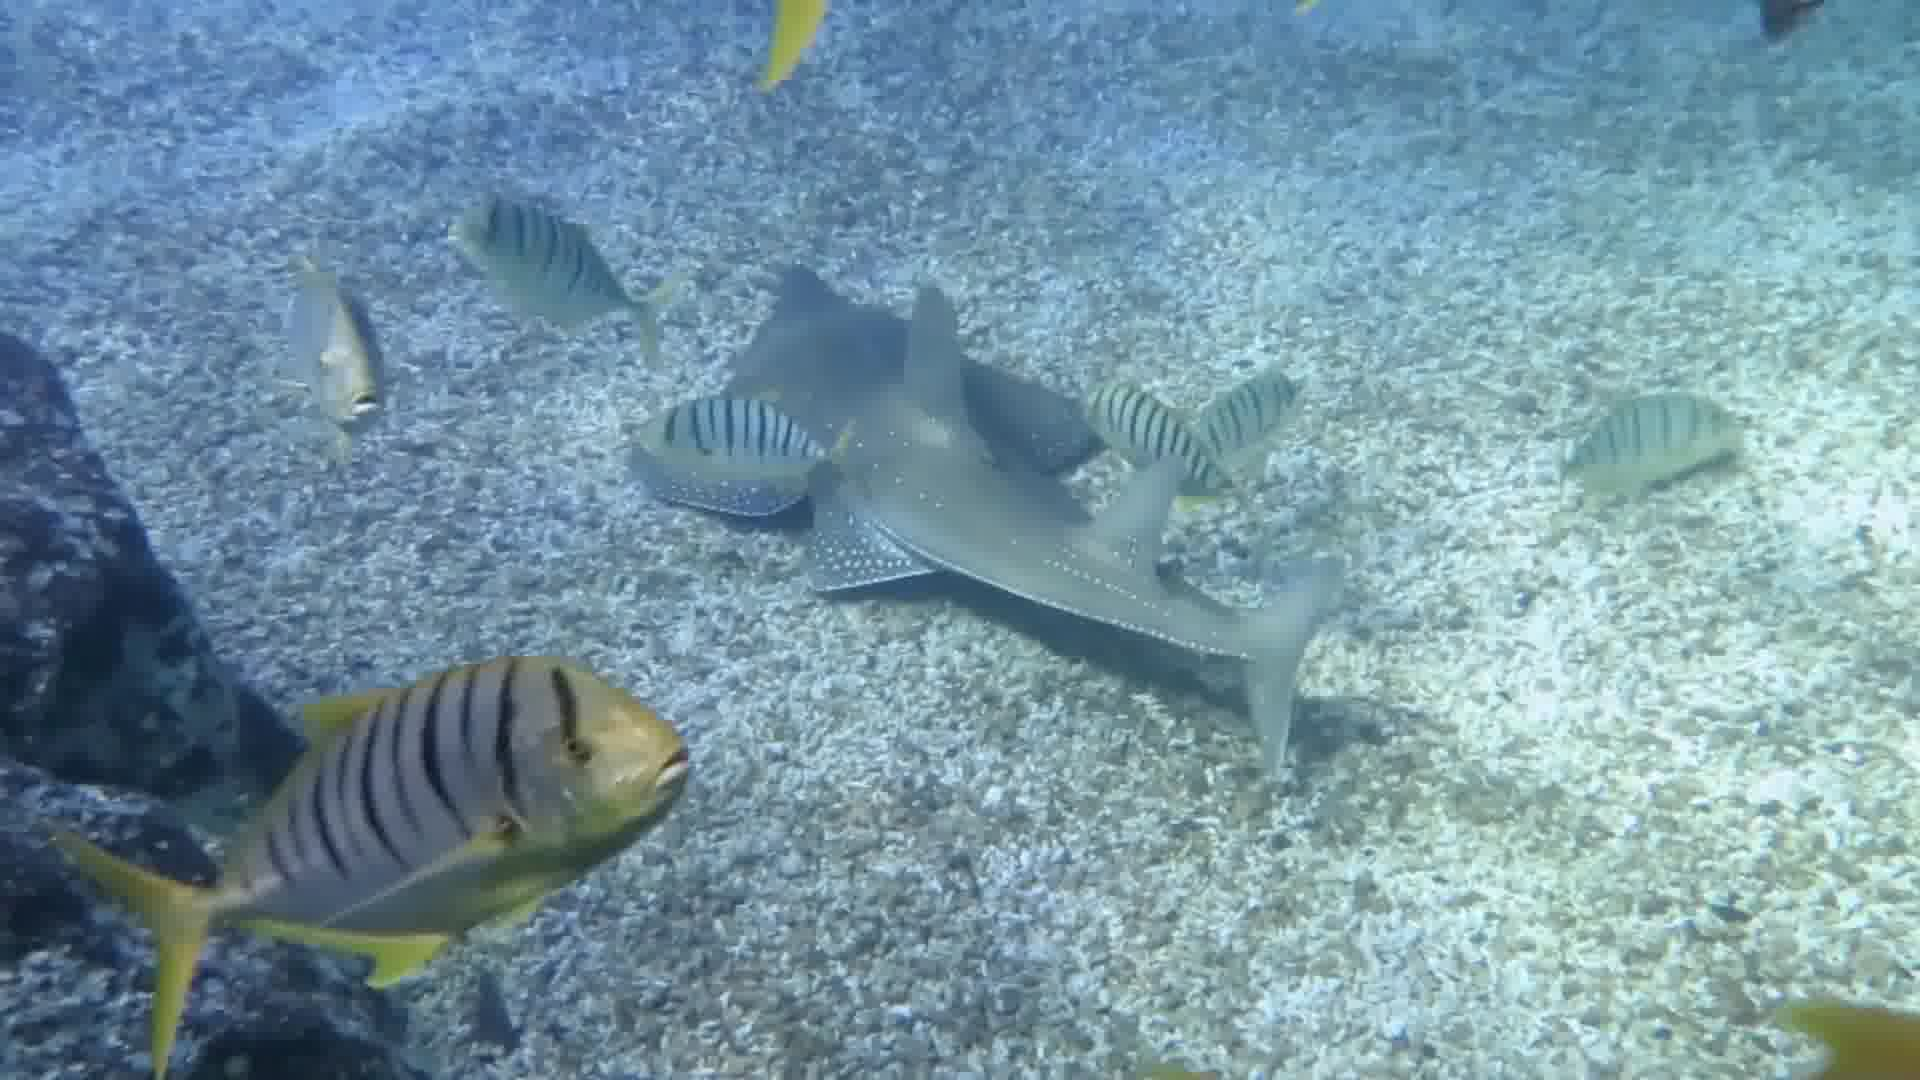Rhychobatus djiddensis: (620, 211, 1408, 771)
